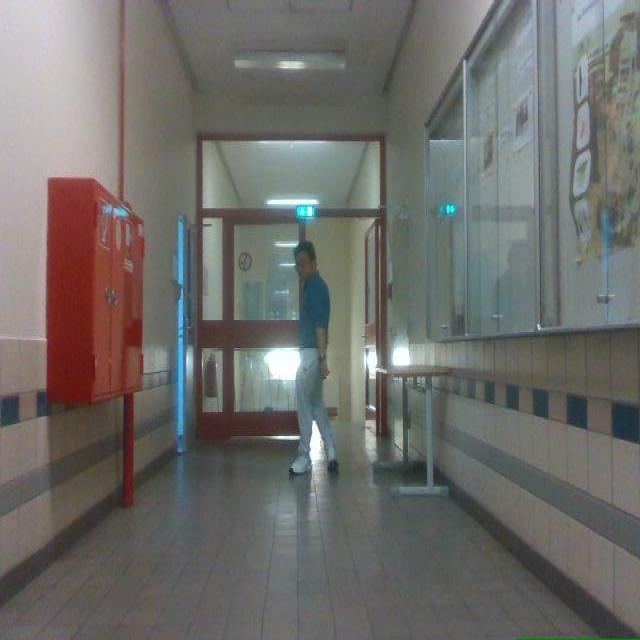humans: (289, 240, 338, 475)
objects: (374, 364, 449, 495)
